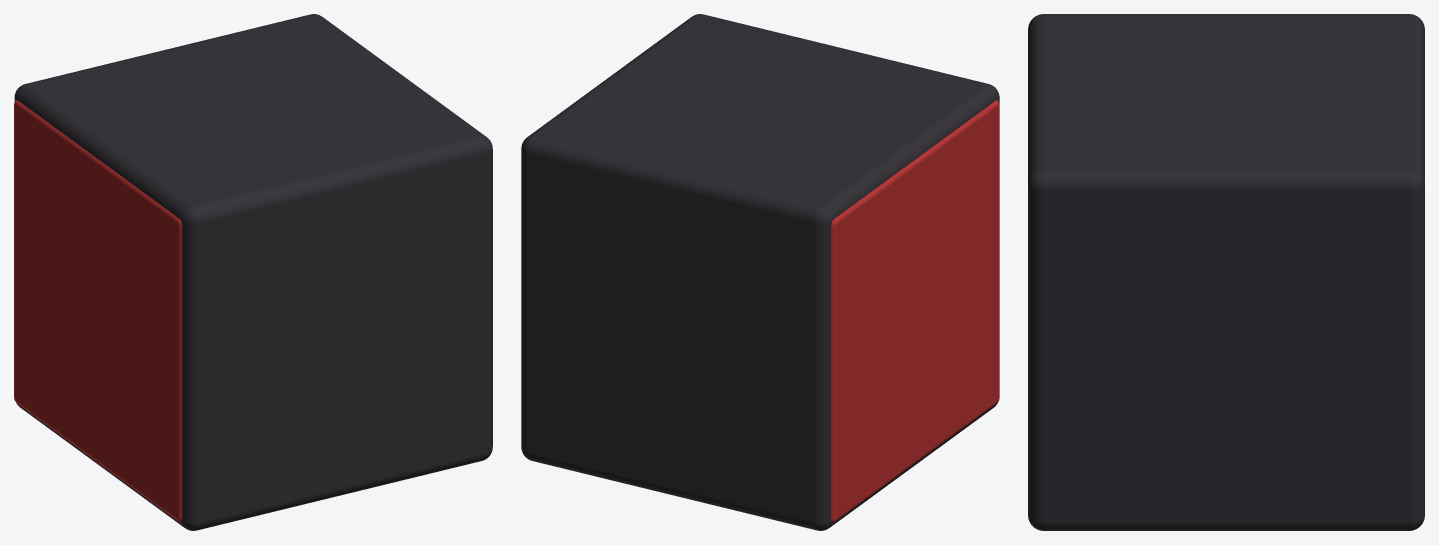
The model's file is rCenter.obj.
3 renders of one model, left to right at view 1: azimuth 30°, elevation 25°; view 2: azimuth 150°, elevation 25°; view 3: azimuth 270°, elevation 25°, orthographic. The views are drawn at different scales.
Visible parts, largest first — view 1: 000_Base, 001_red; view 2: 000_Base, 001_red; view 3: 000_Base.
Boxes of the visible parts, left/top/right/bottom form: 000_Base: left=14, top=14, right=492, bottom=530; 001_red: left=14, top=100, right=182, bottom=522; 000_Base: left=521, top=14, right=999, bottom=530; 001_red: left=831, top=100, right=999, bottom=522; 000_Base: left=1028, top=14, right=1424, bottom=530.
Bounding box in the file's own units: 101 × 100 × 100.
